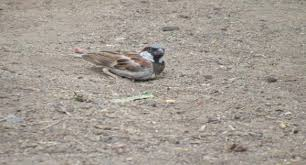hsparrow: (72, 42, 170, 87)
